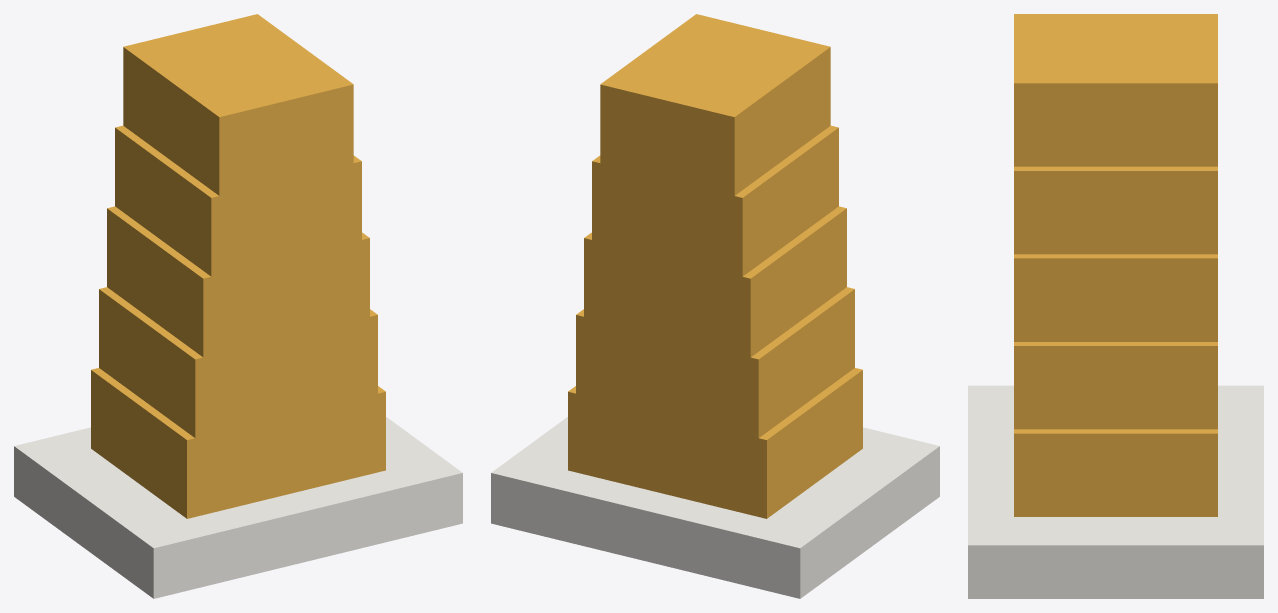
Rendered from kitchen_table-lv5.glb.
3 renders of one model, left to right at view 1: azimuth 30°, elevation 25°; view 2: azimuth 150°, elevation 25°; view 3: azimuth 270°, elevation 25°, orthographic. The views are drawn at different scales.
Visible parts, largest first — view 1: Base, Level5, Level1, Level2, Level3, Level4; view 2: Base, Level5, Level1, Level2, Level3, Level4; view 3: Base, Level5, Level4, Level1, Level2, Level3.
Boxes of the visible parts, x1,y1,x2,y2 form: Base: (14, 417, 462, 598); Level5: (123, 14, 353, 195); Level1: (91, 368, 385, 518); Level2: (99, 287, 377, 438); Level3: (107, 206, 369, 357); Level4: (115, 125, 361, 276); Base: (491, 417, 939, 598); Level5: (600, 14, 830, 195); Level1: (568, 368, 862, 518); Level2: (576, 287, 854, 438); Level3: (584, 206, 846, 357); Level4: (592, 125, 838, 276); Base: (968, 385, 1263, 598); Level5: (1014, 14, 1217, 166); Level4: (1014, 166, 1217, 254); Level1: (1014, 429, 1217, 516); Level2: (1014, 342, 1217, 429); Level3: (1014, 254, 1217, 341).
Bounding box in the file's own units: 1.15 × 1.58 × 0.9.
